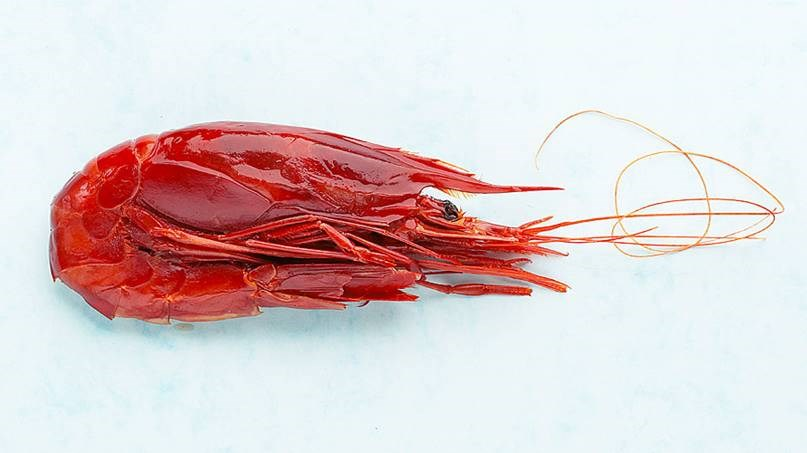Red Prawn: (43, 116, 720, 327)
